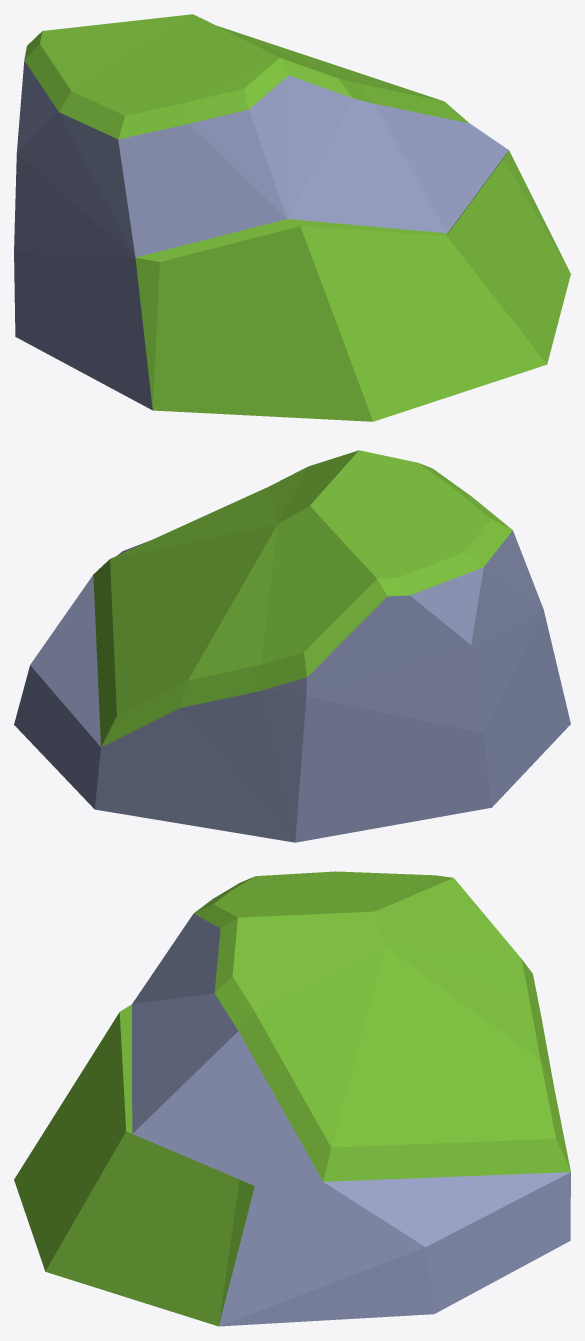
Rendered from Rock_20_1.fbx.
3 renders of one model, top to bottom at view 1: azimuth 30°, elevation 25°; view 2: azimuth 150°, elevation 25°; view 3: azimuth 270°, elevation 25°, orthographic. The views are drawn at different scales.
Visible parts, largest first — view 1: Rock_20_1; view 2: Rock_20_1; view 3: Rock_20_1.
Boxes of the visible parts, <box> form: Rock_20_1: <box>14,14,570,421</box>; Rock_20_1: <box>14,450,570,842</box>; Rock_20_1: <box>14,871,570,1326</box>.
Size of the model in its own units: 6.65 by 3.66 by 6.74.
